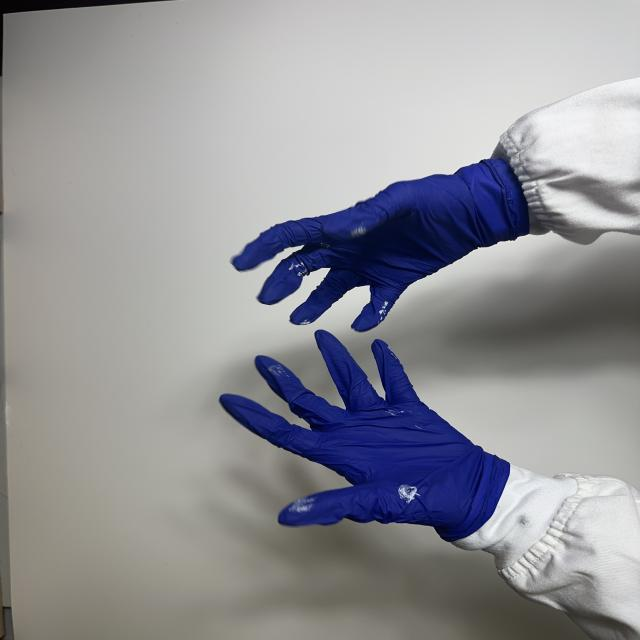gloves_contaminated: (220, 331, 508, 541), (233, 160, 529, 332)
